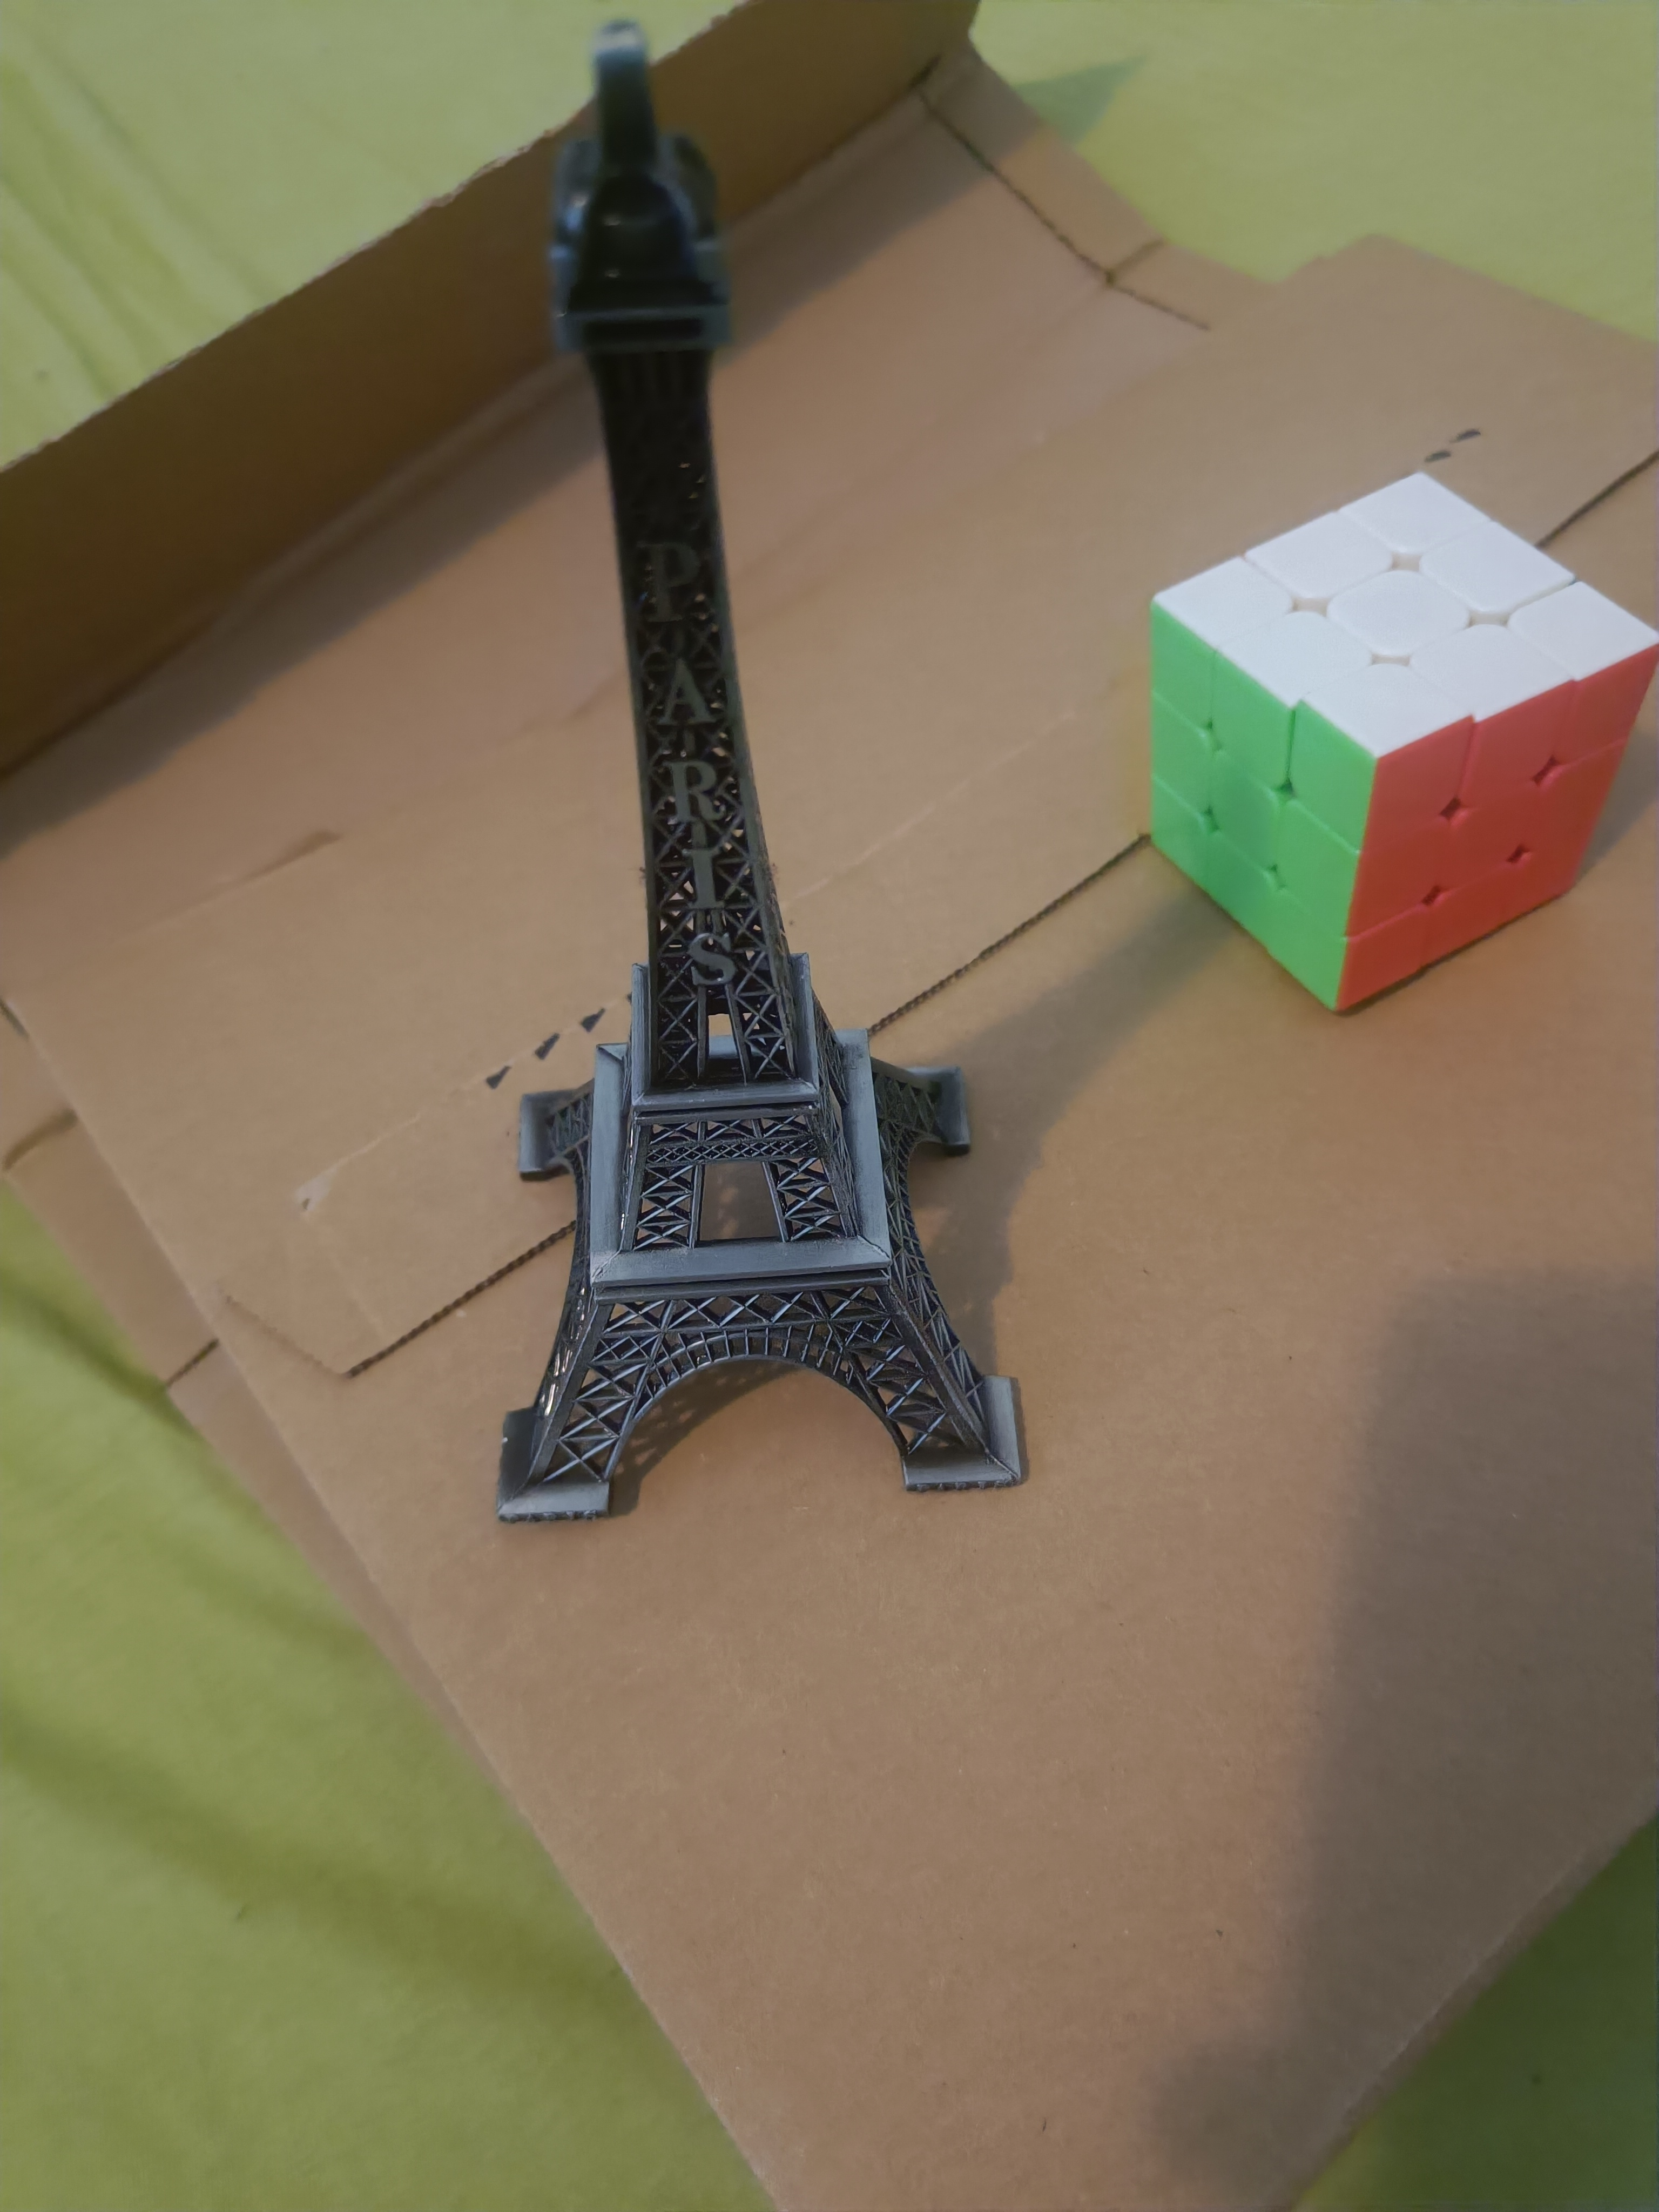Eiffel Tower: (443, 10, 1040, 1541)
Rubiks Cube: (1119, 453, 1656, 1031)
